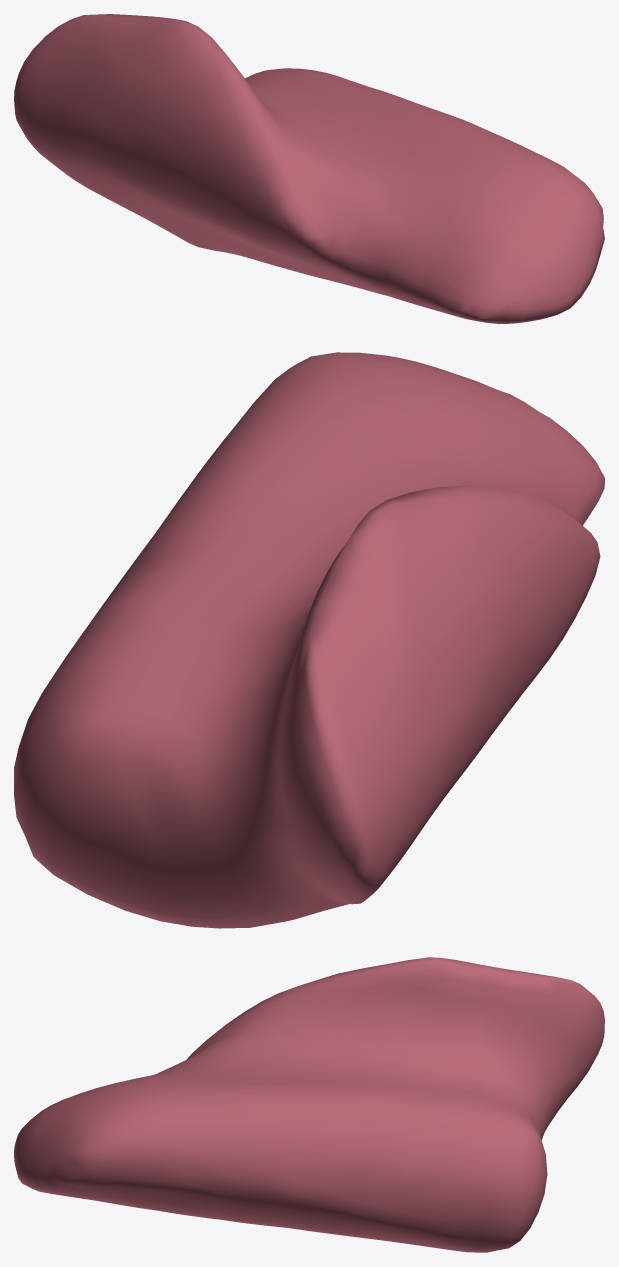
3 renders of one model, top to bottom at view 1: azimuth 30°, elevation 25°; view 2: azimuth 150°, elevation 25°; view 3: azimuth 270°, elevation 25°, orthographic. The views are drawn at different scales.
Visible parts, largest first — view 1: 肝尾状叶（第1段）; view 2: 肝尾状叶（第1段）; view 3: 肝尾状叶（第1段）.
Boxes of the visible parts, left/top/right/bottom form: 肝尾状叶（第1段）: left=14, top=14, right=604, bottom=323; 肝尾状叶（第1段）: left=14, top=352, right=604, bottom=928; 肝尾状叶（第1段）: left=14, top=957, right=604, bottom=1252.
Size of the model in its own units: 0.0652 by 0.0507 by 0.1135.
